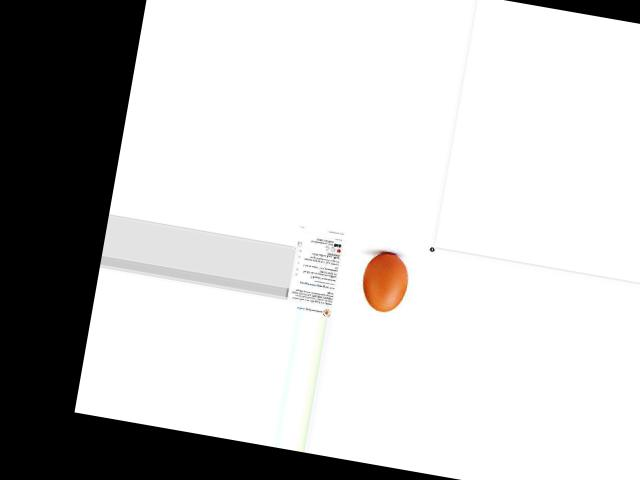egg: (358, 249, 411, 314)
